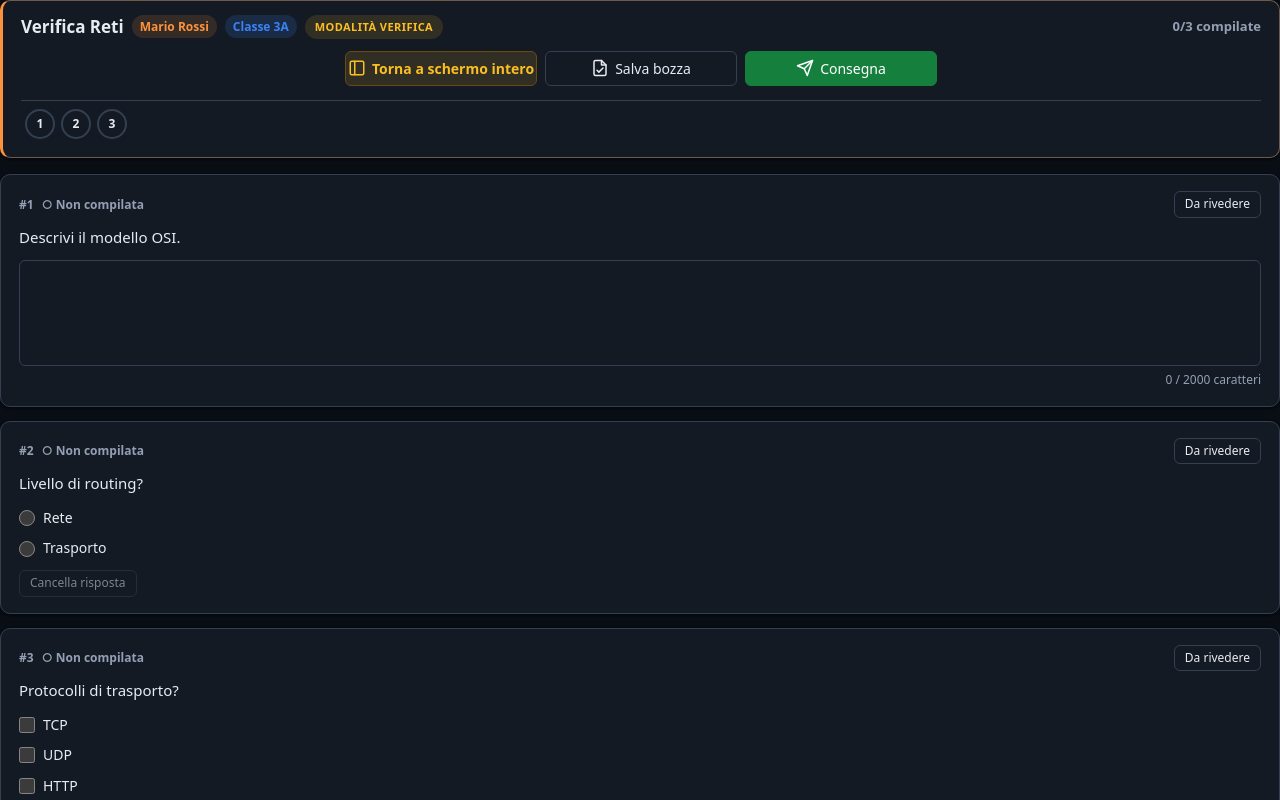
Test: OnlineExamView — saving › shows a sanitized notice for blocked paste without changing the answer or saving immediately
Type "Risposta già inserita." into the text box named "Risposta alla domanda 1" at (640, 314), box [19, 260, 1261, 366]
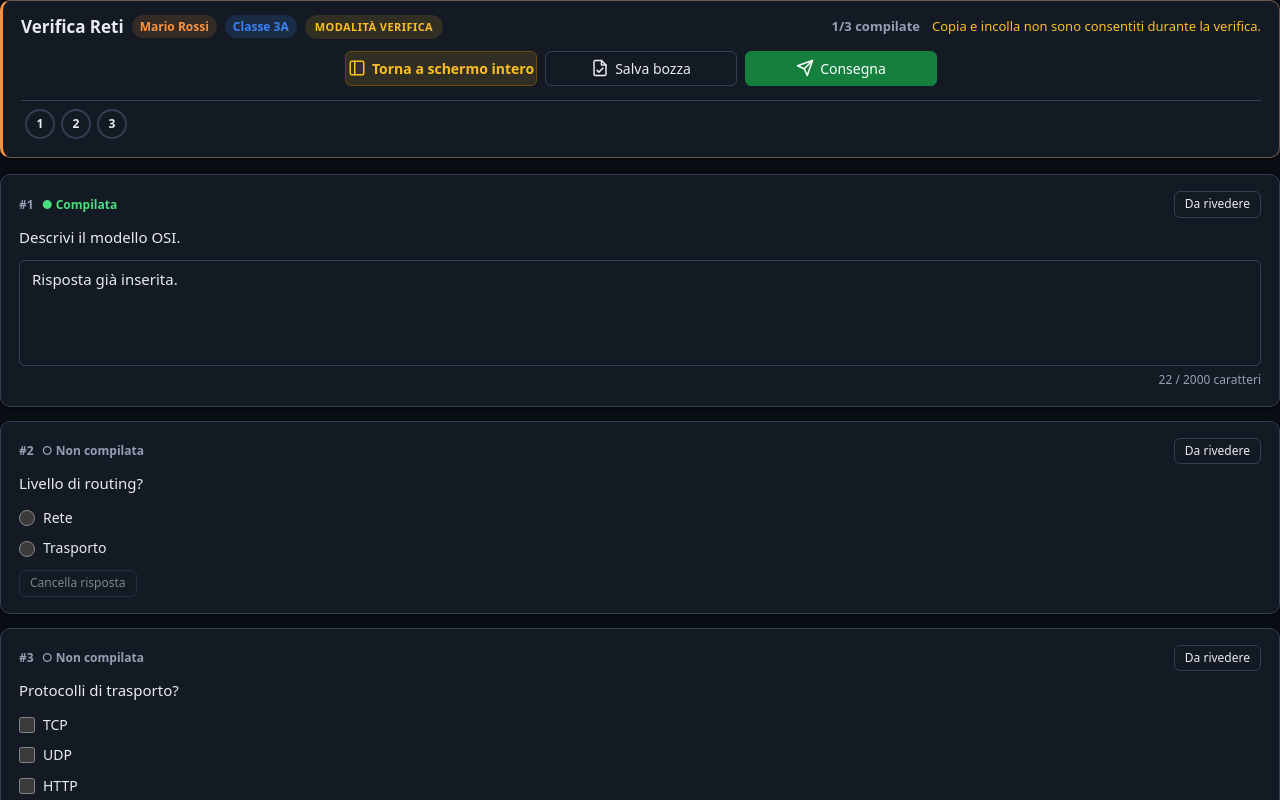
Now the text "Copia e incolla non sono consentiti durante la verifica." is shown, box [932, 16, 1261, 37]
